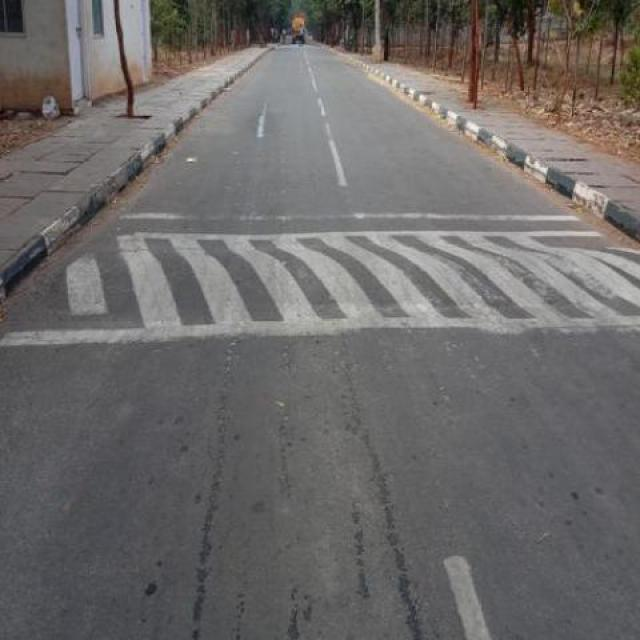Speed Bump: (4, 209, 639, 343)
